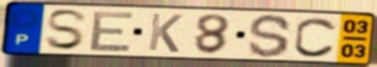8: (193, 13, 231, 56)
C: (292, 16, 340, 59)
E: (87, 10, 137, 53)
K: (146, 11, 185, 54)
S: (246, 13, 295, 60), (43, 8, 90, 52)
